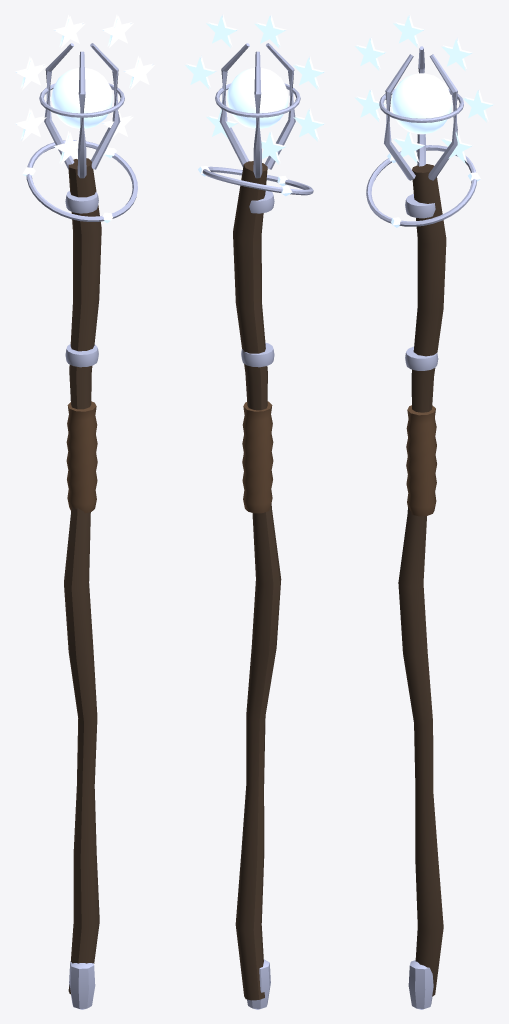
File: fa_starwell.glb
3 renders of one model, left to right at view 1: azimuth 30°, elevation 25°; view 2: azimuth 150°, elevation 25°; view 3: azimuth 330°, elevation 25°, orthographic.
Parts seen in each view (by area): view 1: fa_starwell; view 2: fa_starwell; view 3: fa_starwell.
Part boxes in pixels (<box>): fa_starwell: <box>15,14,154,1009</box>; fa_starwell: <box>185,14,324,1009</box>; fa_starwell: <box>354,14,494,1009</box>.
Size of the model in its own units: 0.2851 by 1.95 by 0.1966.
